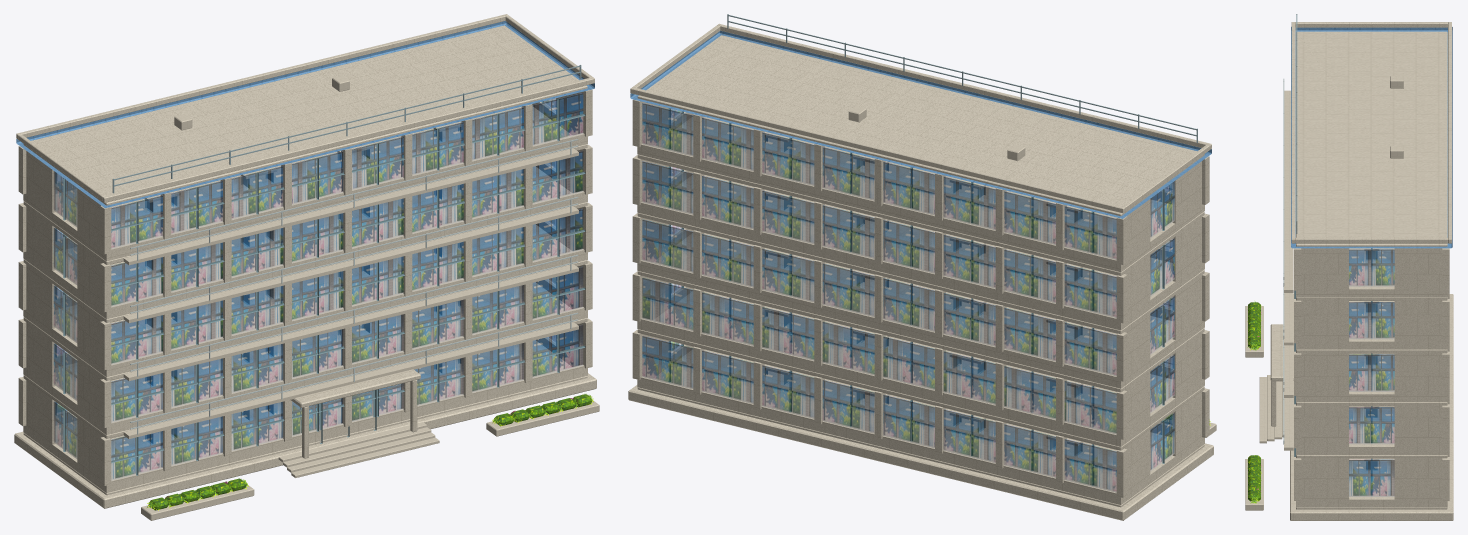
File: B04_repeated_block_v2.glb
3 renders of one model, left to right at view 1: azimuth 30°, elevation 25°; view 2: azimuth 150°, elevation 25°; view 3: azimuth 270°, elevation 25°, orthographic. The views are drawn at different scales.
Parts seen in each view (by area): view 1: GAME_V2_Pixel_limestone, GAME_V2_Glass_reflection, GAME_V2_Planter_stone, GAME_蓝灰窗框, GAME_V2_Silver_rail, GAME_roof, GAME_V2_Dense_hedge, GAME_V2_Tower_frame; view 2: GAME_V2_Pixel_limestone, GAME_V2_Glass_reflection, GAME_蓝灰窗框, GAME_roof, GAME_V2_Tower_frame; view 3: GAME_V2_Pixel_limestone, GAME_V2_Glass_reflection, GAME_V2_Planter_stone, GAME_roof, GAME_V2_Dense_hedge, GAME_蓝灰窗框, GAME_V2_Silver_rail, GAME_V2_Tower_frame.
Part boxes in pixels (box(x1,y1,x2,y2)): GAME_V2_Pixel_limestone: box(14, 14, 596, 508); GAME_V2_Glass_reflection: box(53, 93, 583, 480); GAME_V2_Planter_stone: box(123, 75, 599, 520); GAME_蓝灰窗框: box(55, 99, 585, 475); GAME_V2_Silver_rail: box(130, 139, 578, 434); GAME_roof: box(16, 21, 594, 208); GAME_V2_Dense_hedge: box(148, 394, 591, 510); GAME_V2_Tower_frame: box(112, 65, 581, 193); GAME_V2_Pixel_limestone: box(628, 23, 1213, 520); GAME_V2_Glass_reflection: box(642, 103, 1174, 492); GAME_蓝灰窗框: box(643, 108, 1164, 485); GAME_roof: box(630, 30, 1211, 218); GAME_V2_Tower_frame: box(727, 14, 1197, 143); GAME_V2_Pixel_limestone: box(1259, 22, 1453, 520); GAME_V2_Glass_reflection: box(1349, 249, 1394, 496); GAME_V2_Planter_stone: box(1245, 76, 1403, 510); GAME_roof: box(1291, 27, 1452, 248); GAME_V2_Dense_hedge: box(1248, 302, 1260, 501); GAME_蓝灰窗框: box(1294, 248, 1377, 495); GAME_V2_Silver_rail: box(1283, 78, 1284, 444); GAME_V2_Tower_frame: box(1296, 14, 1297, 233).
Bounding box in the file's own units: 20.5 × 12.88 × 8.27.
10 materials, 7 textured.
